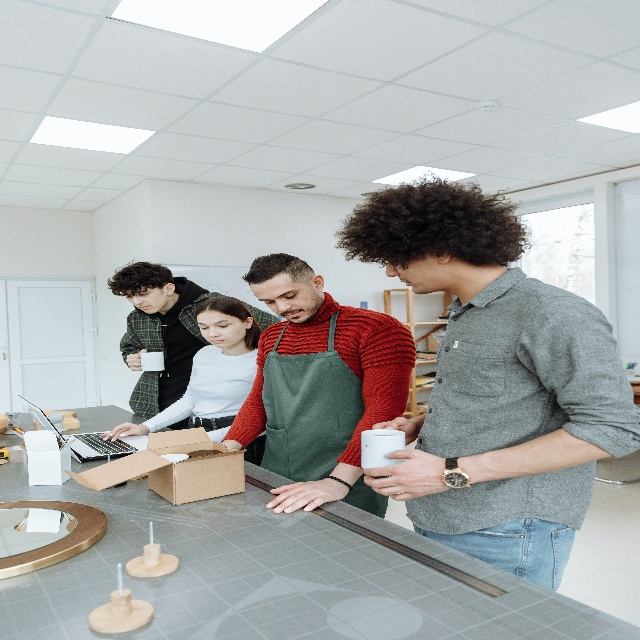Sin_guantes: (362, 448, 450, 502), (266, 477, 349, 515), (371, 416, 418, 447), (99, 422, 144, 442), (125, 348, 147, 371)
